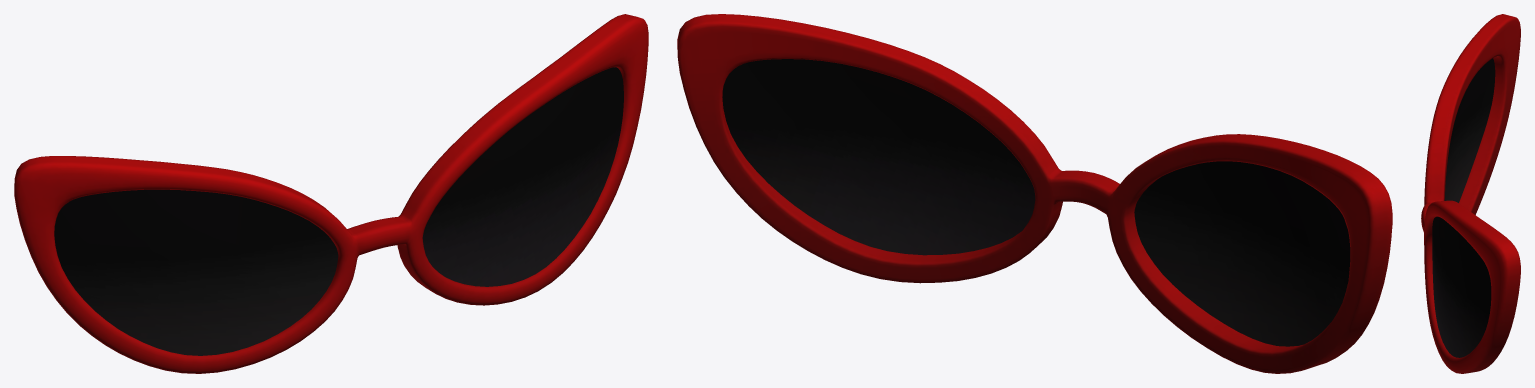
The model's file is glasses.glb.
3 renders of one model, left to right at view 1: azimuth 30°, elevation 25°; view 2: azimuth 150°, elevation 25°; view 3: azimuth 270°, elevation 25°, orthographic. The views are drawn at different scales.
Visible parts, largest first — view 1: CateyeGlasses; view 2: CateyeGlasses; view 3: CateyeGlasses.
Boxes of the visible parts, x1=… form: CateyeGlasses: x1=14, y1=14, x2=648, y2=373; CateyeGlasses: x1=677, y1=14, x2=1392, y2=373; CateyeGlasses: x1=1421, y1=14, x2=1520, y2=373.
Bounding box in the file's own units: 0.688 × 0.2282 × 0.1188.
Materials: 2 (2 with a texture image).
